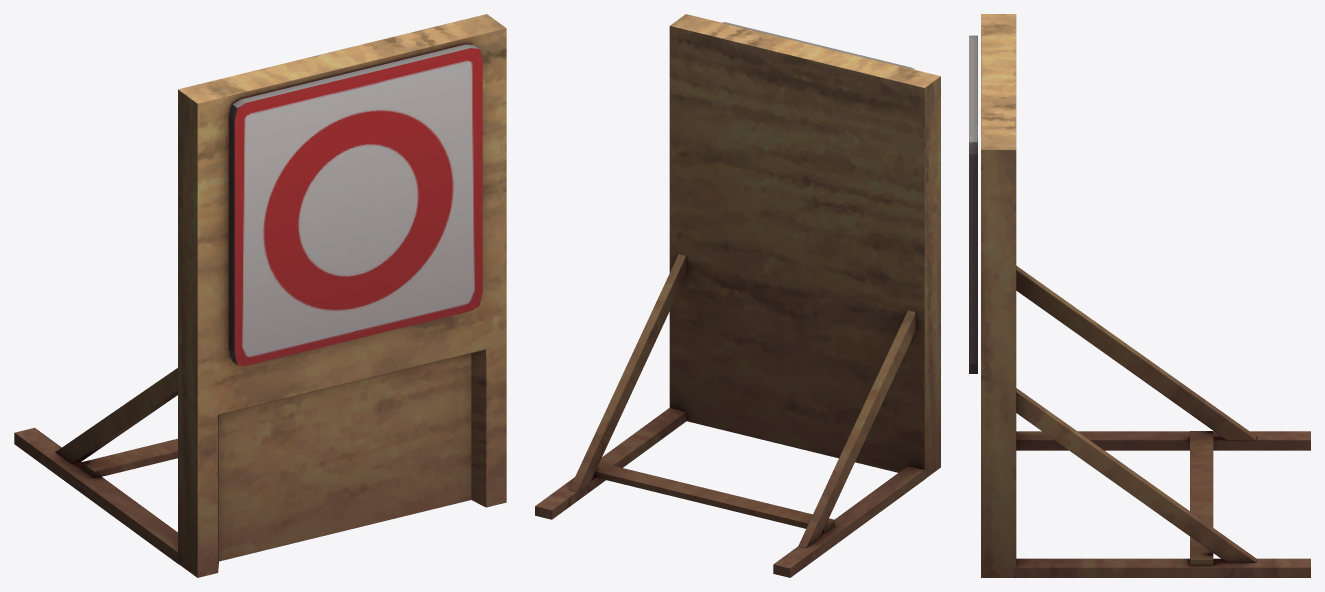
The model's file is SM_Stop_Sign_Wood.FBX.
3 views of the same model, side by side, from view 1: azimuth 30°, elevation 25°; view 2: azimuth 150°, elevation 25°; view 3: azimuth 270°, elevation 25° (orthographic). The views are drawn at different scales.
Parts seen in each view (by area): view 1: SM_Stop_Sign_Wood_LOD0; view 2: SM_Stop_Sign_Wood_LOD0; view 3: SM_Stop_Sign_Wood_LOD0.
Boxes of the visible parts, x1,y1,x2,y2 form: SM_Stop_Sign_Wood_LOD0: (14, 14, 506, 577); SM_Stop_Sign_Wood_LOD0: (535, 14, 940, 577); SM_Stop_Sign_Wood_LOD0: (969, 14, 1310, 577).
Size of the model in its own units: 81.94 by 86.88 by 120.
